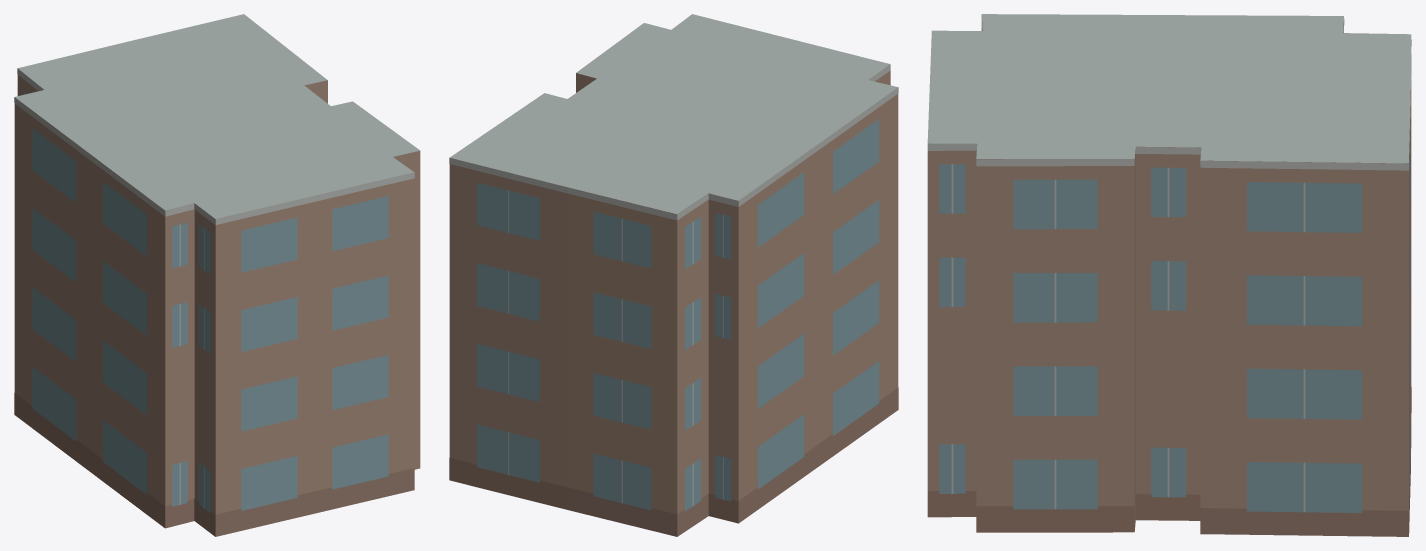
Rendered from survey-upis-32749172.glb.
The picture shows the model from 3 angles, left to right: view 1: azimuth 30°, elevation 25°; view 2: azimuth 150°, elevation 25°; view 3: azimuth 270°, elevation 25°; orthographic projection. The views are drawn at different scales.
Parts seen in each view (by area): view 1: survey-upis-32749172.tmp; view 2: survey-upis-32749172.tmp; view 3: survey-upis-32749172.tmp.
Part boxes in pixels (x1,y1,x2,y2): survey-upis-32749172.tmp: [14, 14, 420, 536]; survey-upis-32749172.tmp: [449, 14, 898, 536]; survey-upis-32749172.tmp: [927, 14, 1411, 536].
Bounding box in the file's own units: 10.91 × 12.7 × 14.92.
